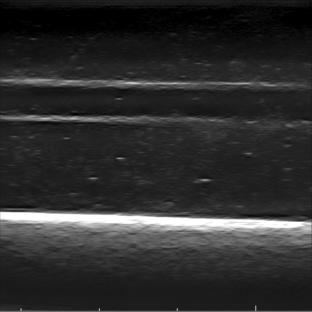vessel: (3, 78, 299, 126)
